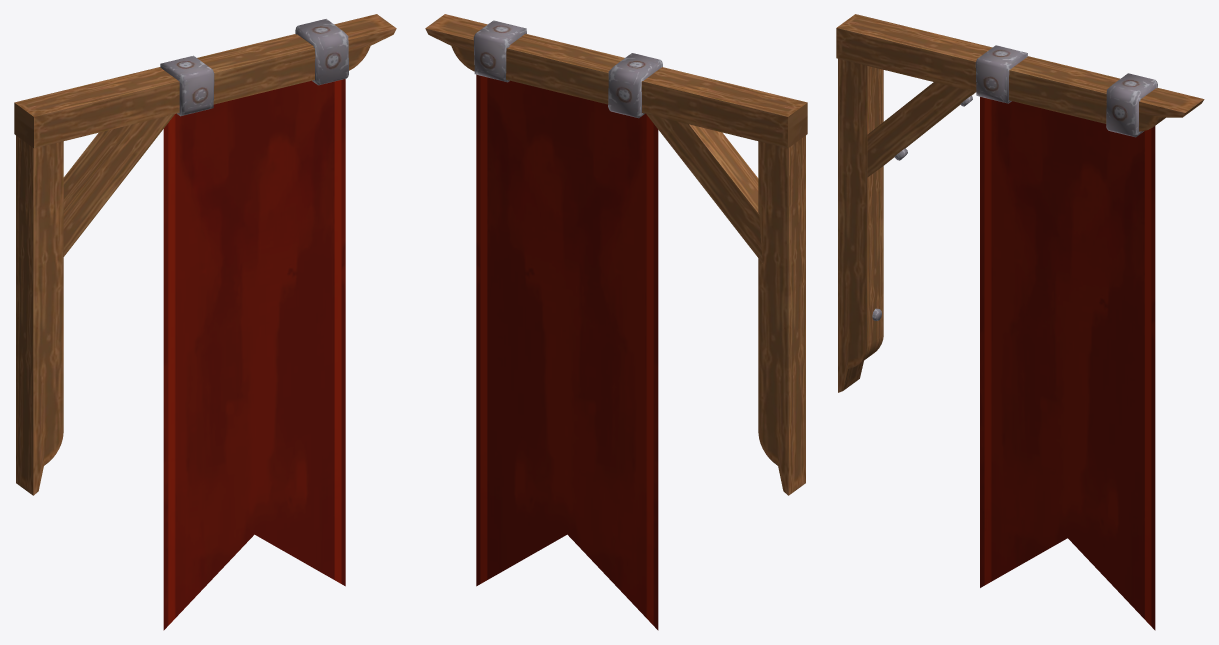
The model's file is Banner_1.glb.
3 renders of one model, left to right at view 1: azimuth 30°, elevation 25°; view 2: azimuth 150°, elevation 25°; view 3: azimuth 330°, elevation 25°, orthographic. The views are drawn at different scales.
Visible parts, largest first — view 1: Banner_1; view 2: Banner_1; view 3: Banner_1.
Part boxes in pixels (bbox=[...]): Banner_1: bbox=[14, 14, 396, 630]; Banner_1: bbox=[425, 14, 807, 630]; Banner_1: bbox=[836, 14, 1204, 630].
Size of the model in its own units: 1.61 by 2.39 by 0.1907.
Materials: 3 (3 with a texture image).
